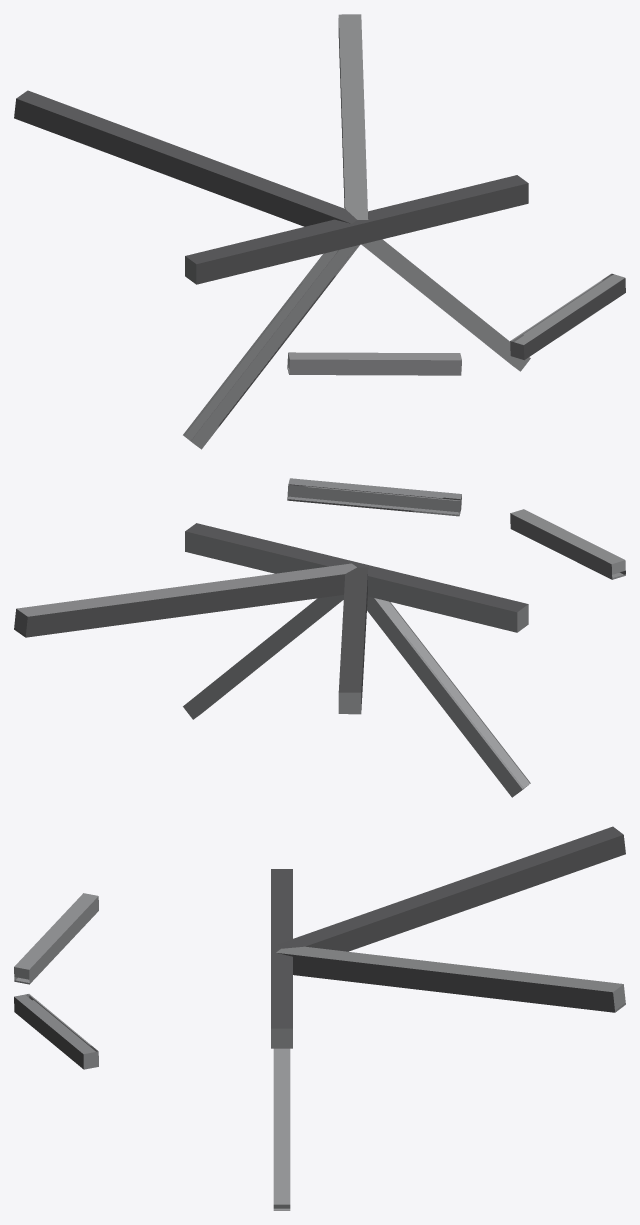
The picture shows the model from 3 angles, top to bottom: view 1: azimuth 30°, elevation 25°; view 2: azimuth 150°, elevation 25°; view 3: azimuth 270°, elevation 25°; orthographic projection.
Size of the model in its own units: 1.06 by 0.6681 by 1.65.
